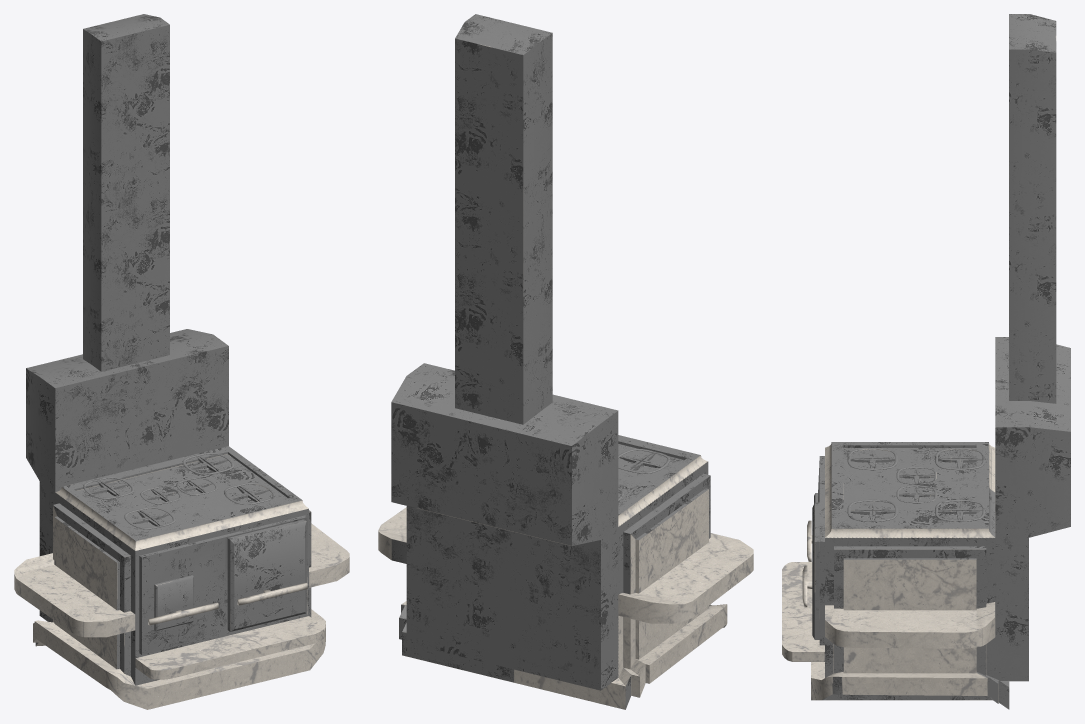
Rendered from pech.fbx.
3 views of the same model, side by side, from view 1: azimuth 30°, elevation 25°; view 2: azimuth 150°, elevation 25°; view 3: azimuth 270°, elevation 25° (orthographic). The views are drawn at different scales.
Parts seen in each view (by area): view 1: pech; view 2: pech; view 3: pech.
Boxes of the visible parts, x1,y1,x2,y2 form: pech: (14,14,349,709); pech: (378,14,753,709); pech: (782,14,1070,709).
Bounding box in the file's own units: 903 × 1823 × 762.
